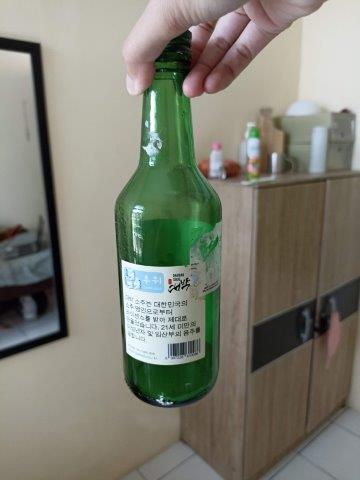botolkaca: (113, 23, 220, 408)
